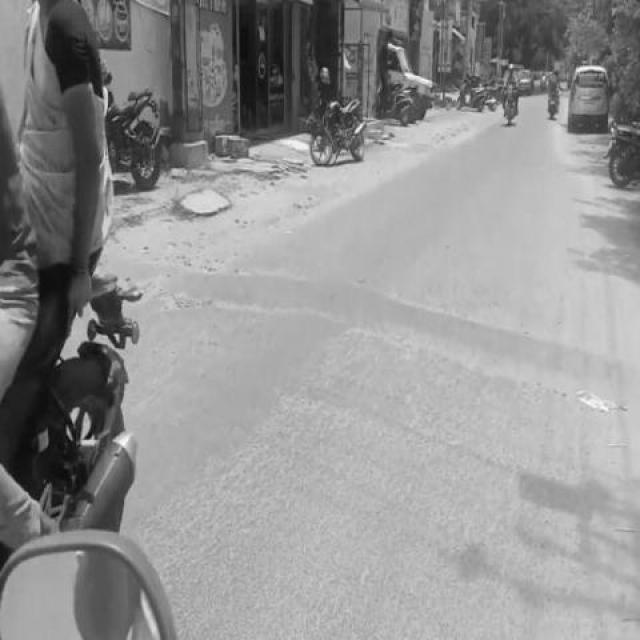Unmarked Bump: (140, 265, 639, 420)
